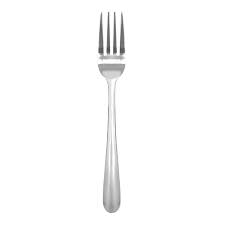fork: (94, 8, 129, 215)
